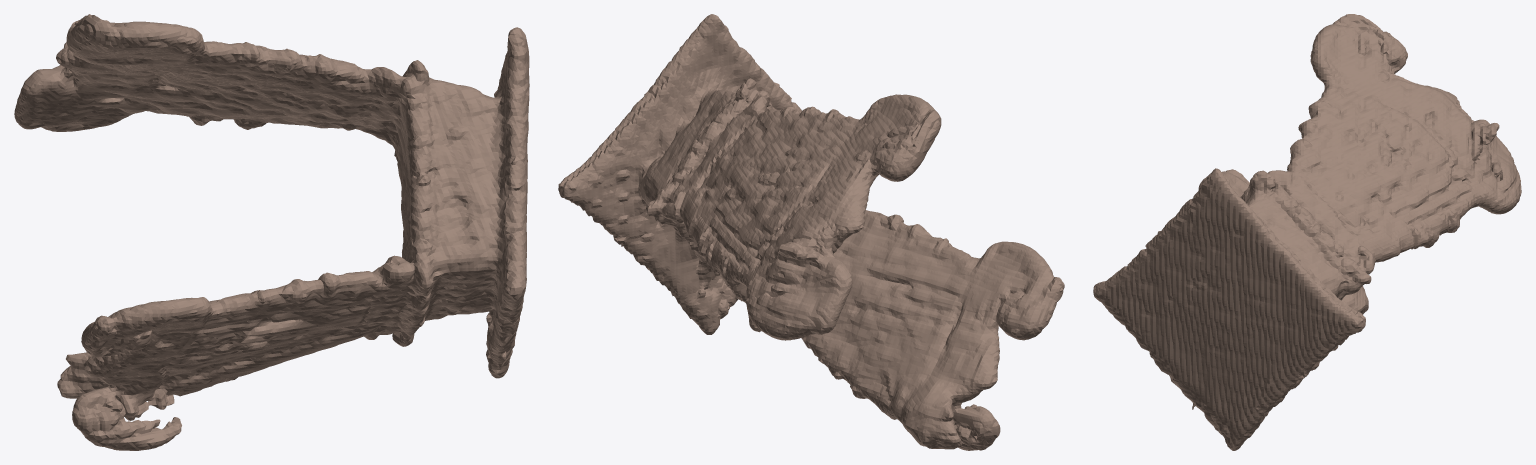
File: raw.glb
The picture shows the model from 3 angles, left to right: view 1: azimuth 30°, elevation 25°; view 2: azimuth 150°, elevation 25°; view 3: azimuth 270°, elevation 25°; orthographic projection. The views are drawn at different scales.
Visible parts, largest first — view 1: world; view 2: world; view 3: world.
Boxes of the visible parts, left/top/right/bottom form: world: left=14, top=14, right=529, bottom=450; world: left=558, top=14, right=1064, bottom=450; world: left=1093, top=14, right=1521, bottom=450.
Bounding box in the file's own units: 0.5 × 0.391 × 0.4671.
